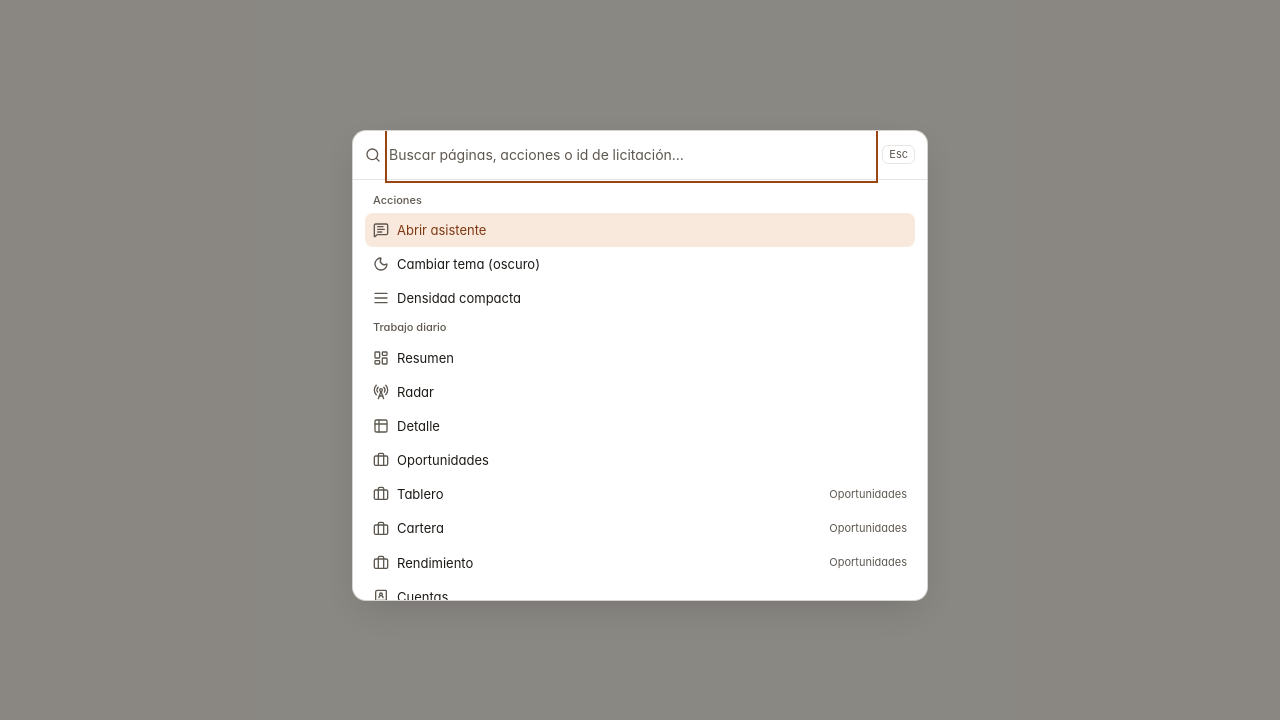
Scenario: CommandPalette › encuentra un espacio por sus términos de oficio aunque la descripción no los nombre
The width and height of the screenshot is (1280, 720).
Type "scoring" into the dropdown with placeholder "Buscar páginas, acciones o id de licitación…" at (632, 155), box x1=389 y1=131 x2=874 y2=179
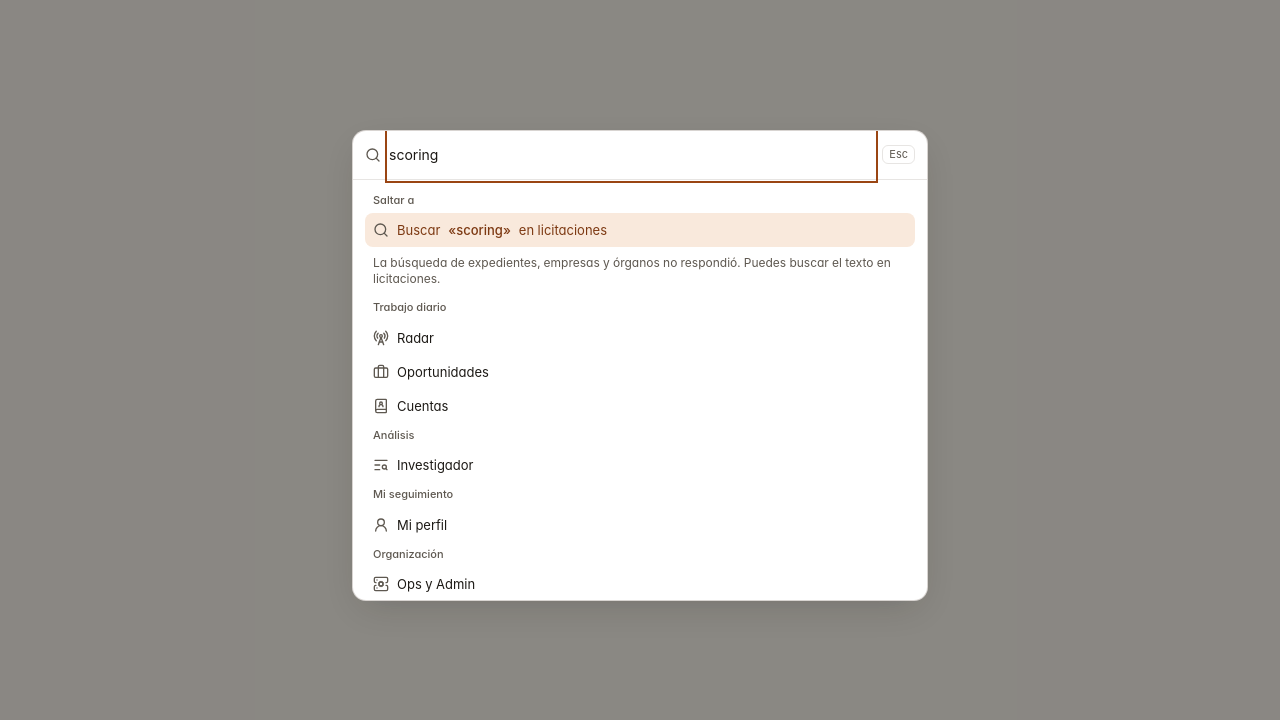
Expected: the option "Mi perfil" is shown, x1=373 y1=517 x2=447 y2=533
